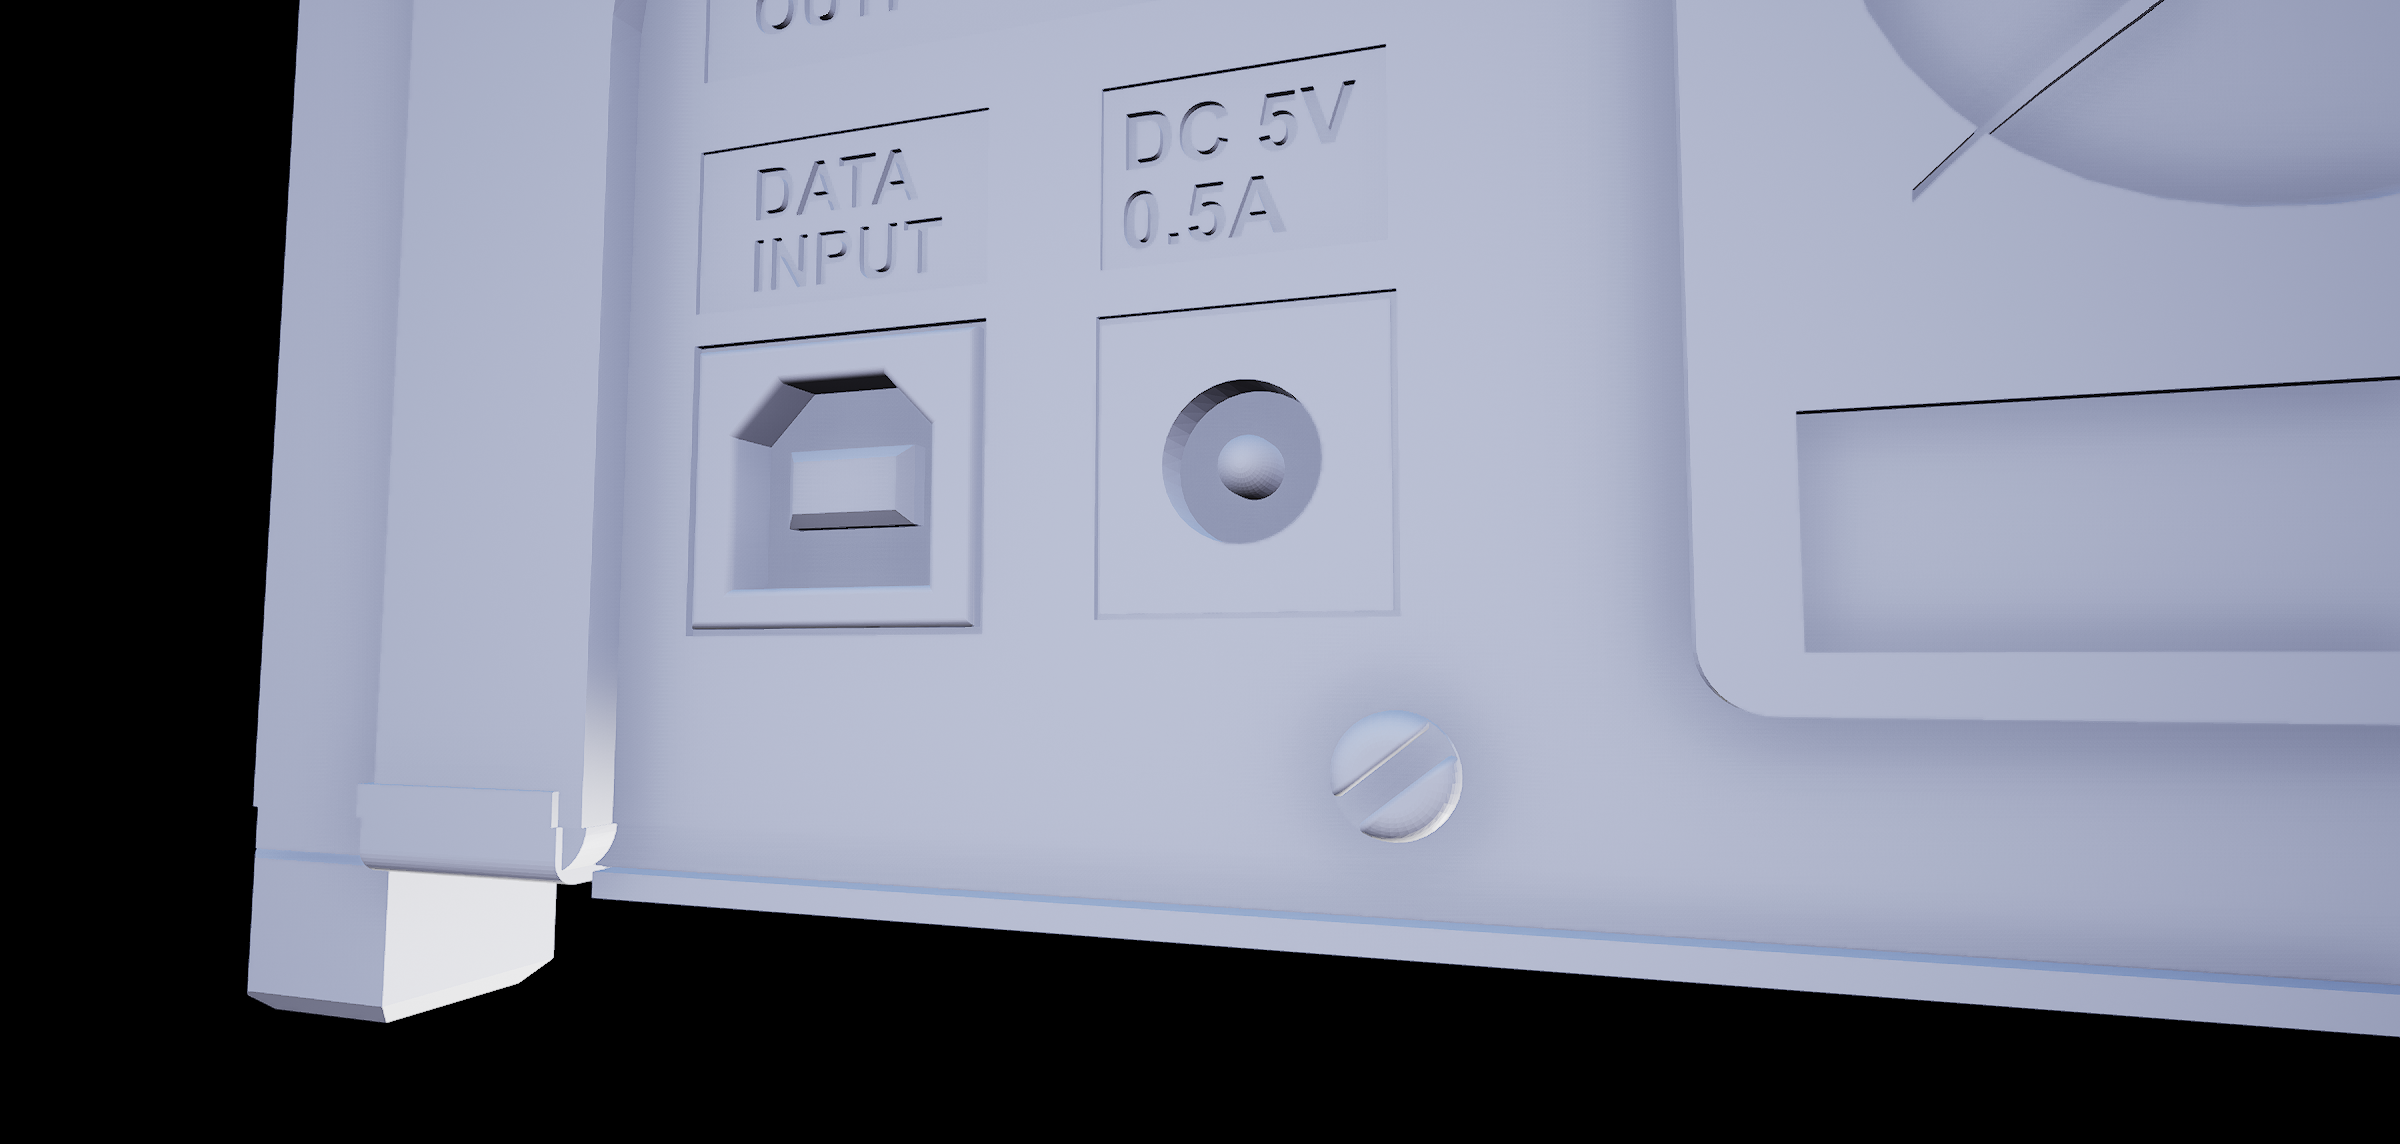dc: (1153, 375, 1352, 561)
usb: (718, 361, 947, 619)
